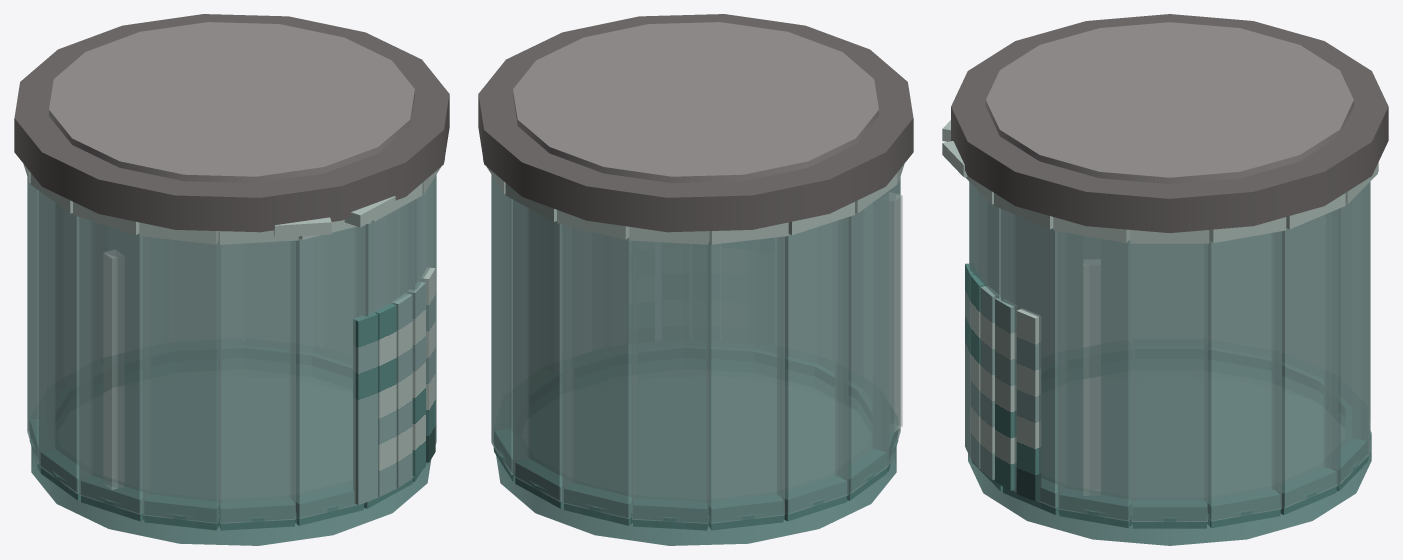
Rendered from CMU3DCMBeakerLargeMedicalSmallCloudLidStudy.glb.
3 views of the same model, side by side, from view 1: azimuth 30°, elevation 25°; view 2: azimuth 150°, elevation 25°; view 3: azimuth 270°, elevation 25° (orthographic).
Visible parts, largest first — view 1: lid inset top, closed vessel floor, removable solid closed lid, thin hollow vessel wall 10, thin hollow vessel wall 11, thin hollow vessel wall 09, thin hollow vessel wall 12, thin hollow vessel wall 08, thin hollow vessel wall 07, thin hollow vessel wall 13, subtle vertical glass edge 0, original curved graduation column 17 (+19 smaller); view 2: lid inset top, closed vessel floor, removable solid closed lid, thin hollow vessel wall 06, thin hollow vessel wall 05, thin hollow vessel wall 04, thin hollow vessel wall 07, thin hollow vessel wall 03, thin hollow vessel wall 08, thin hollow vessel wall 02, thin hollow vessel wall 09, subtle vertical glass edge 0 (+17 smaller); view 3: lid inset top, closed vessel floor, removable solid closed lid, thin hollow vessel wall 01, thin hollow vessel wall 16, thin hollow vessel wall 15, thin hollow vessel wall 02, thin hollow vessel wall 14, thin hollow vessel wall 03, original curved graduation column 21, subtle vertical glass edge 1, original curved graduation column 20 (+19 smaller).
Boxes of the visible parts, x1,y1,x2,y2 form: lid inset top: (49, 22, 414, 183); closed vessel floor: (31, 370, 431, 545); removable solid closed lid: (14, 14, 449, 232); thin hollow vessel wall 10: (143, 236, 221, 523); thin hollow vessel wall 11: (218, 240, 295, 523); thin hollow vessel wall 09: (79, 217, 150, 514); thin hollow vessel wall 12: (290, 225, 365, 518); thin hollow vessel wall 08: (38, 191, 92, 493); thin hollow vessel wall 07: (27, 177, 55, 464); thin hollow vessel wall 13: (354, 200, 414, 501); subtle vertical glass edge 0: (103, 250, 124, 489); original curved graduation column 17: (353, 312, 378, 504); lid inset top: (513, 22, 878, 183); closed vessel floor: (496, 370, 896, 545); removable solid closed lid: (478, 14, 913, 232); thin hollow vessel wall 06: (706, 236, 784, 523); thin hollow vessel wall 05: (632, 240, 709, 523); thin hollow vessel wall 04: (562, 224, 637, 518); thin hollow vessel wall 07: (777, 217, 848, 514); thin hollow vessel wall 03: (513, 200, 573, 501); thin hollow vessel wall 08: (835, 191, 889, 493); thin hollow vessel wall 02: (491, 175, 528, 474); thin hollow vessel wall 09: (872, 177, 900, 464); subtle vertical glass edge 0: (889, 192, 902, 432); lid inset top: (985, 22, 1353, 184); closed vessel floor: (968, 371, 1371, 545); removable solid closed lid: (951, 14, 1388, 233); thin hollow vessel wall 01: (1204, 231, 1281, 521); thin hollow vessel wall 16: (1131, 243, 1207, 521); thin hollow vessel wall 15: (1058, 231, 1134, 521); thin hollow vessel wall 02: (1272, 209, 1338, 508); thin hollow vessel wall 14: (1001, 209, 1067, 508); thin hollow vessel wall 03: (1324, 182, 1369, 484); original curved graduation column 21: (1016, 308, 1040, 501); subtle vertical glass edge 1: (1083, 259, 1100, 495); original curved graduation column 20: (995, 297, 1016, 490).
Size of the model in its own units: 0.52 by 0.473 by 0.5304.
Materials: 12 (5 with a texture image).
